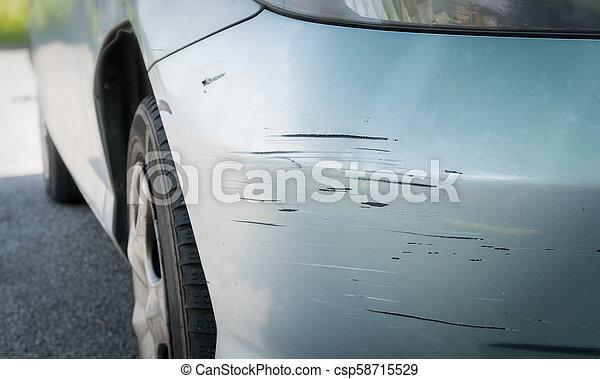front-bumper-dent: (132, 24, 599, 364)
